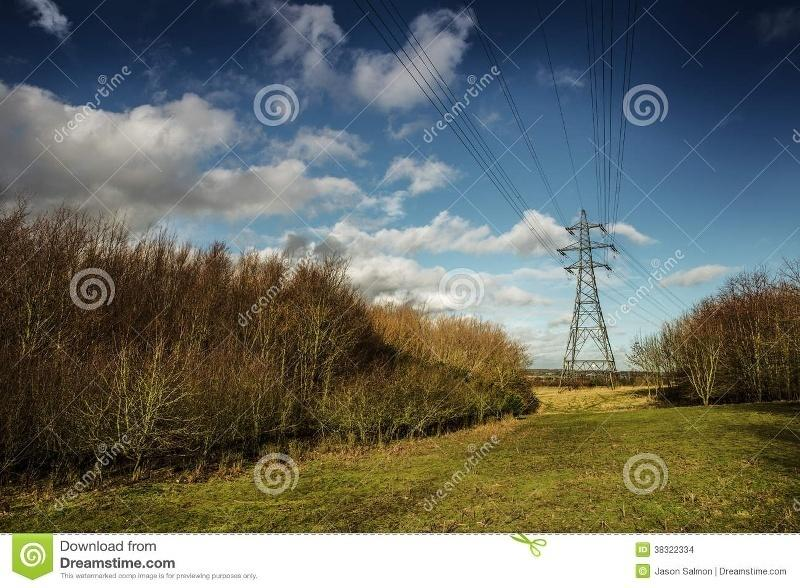power_tower: (547, 193, 645, 414)
